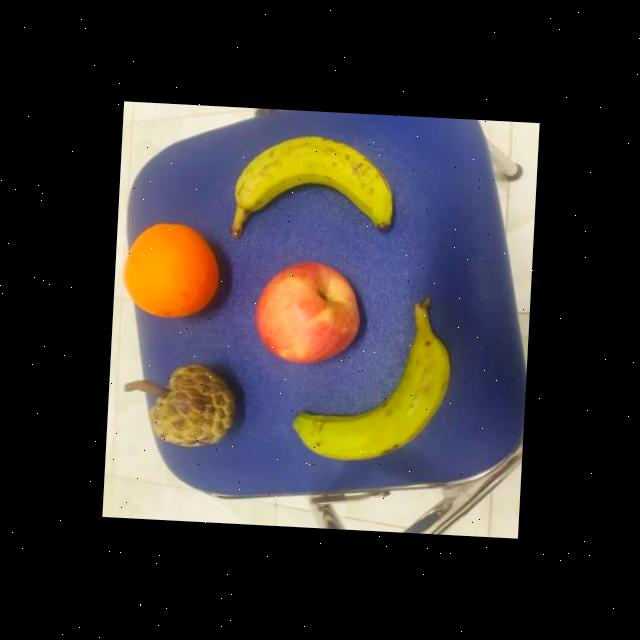Sakya fruit: (146, 358, 246, 450)
apple: (250, 256, 366, 368)
banana: (287, 289, 456, 469), (226, 128, 394, 246)
orange: (120, 212, 222, 326)
